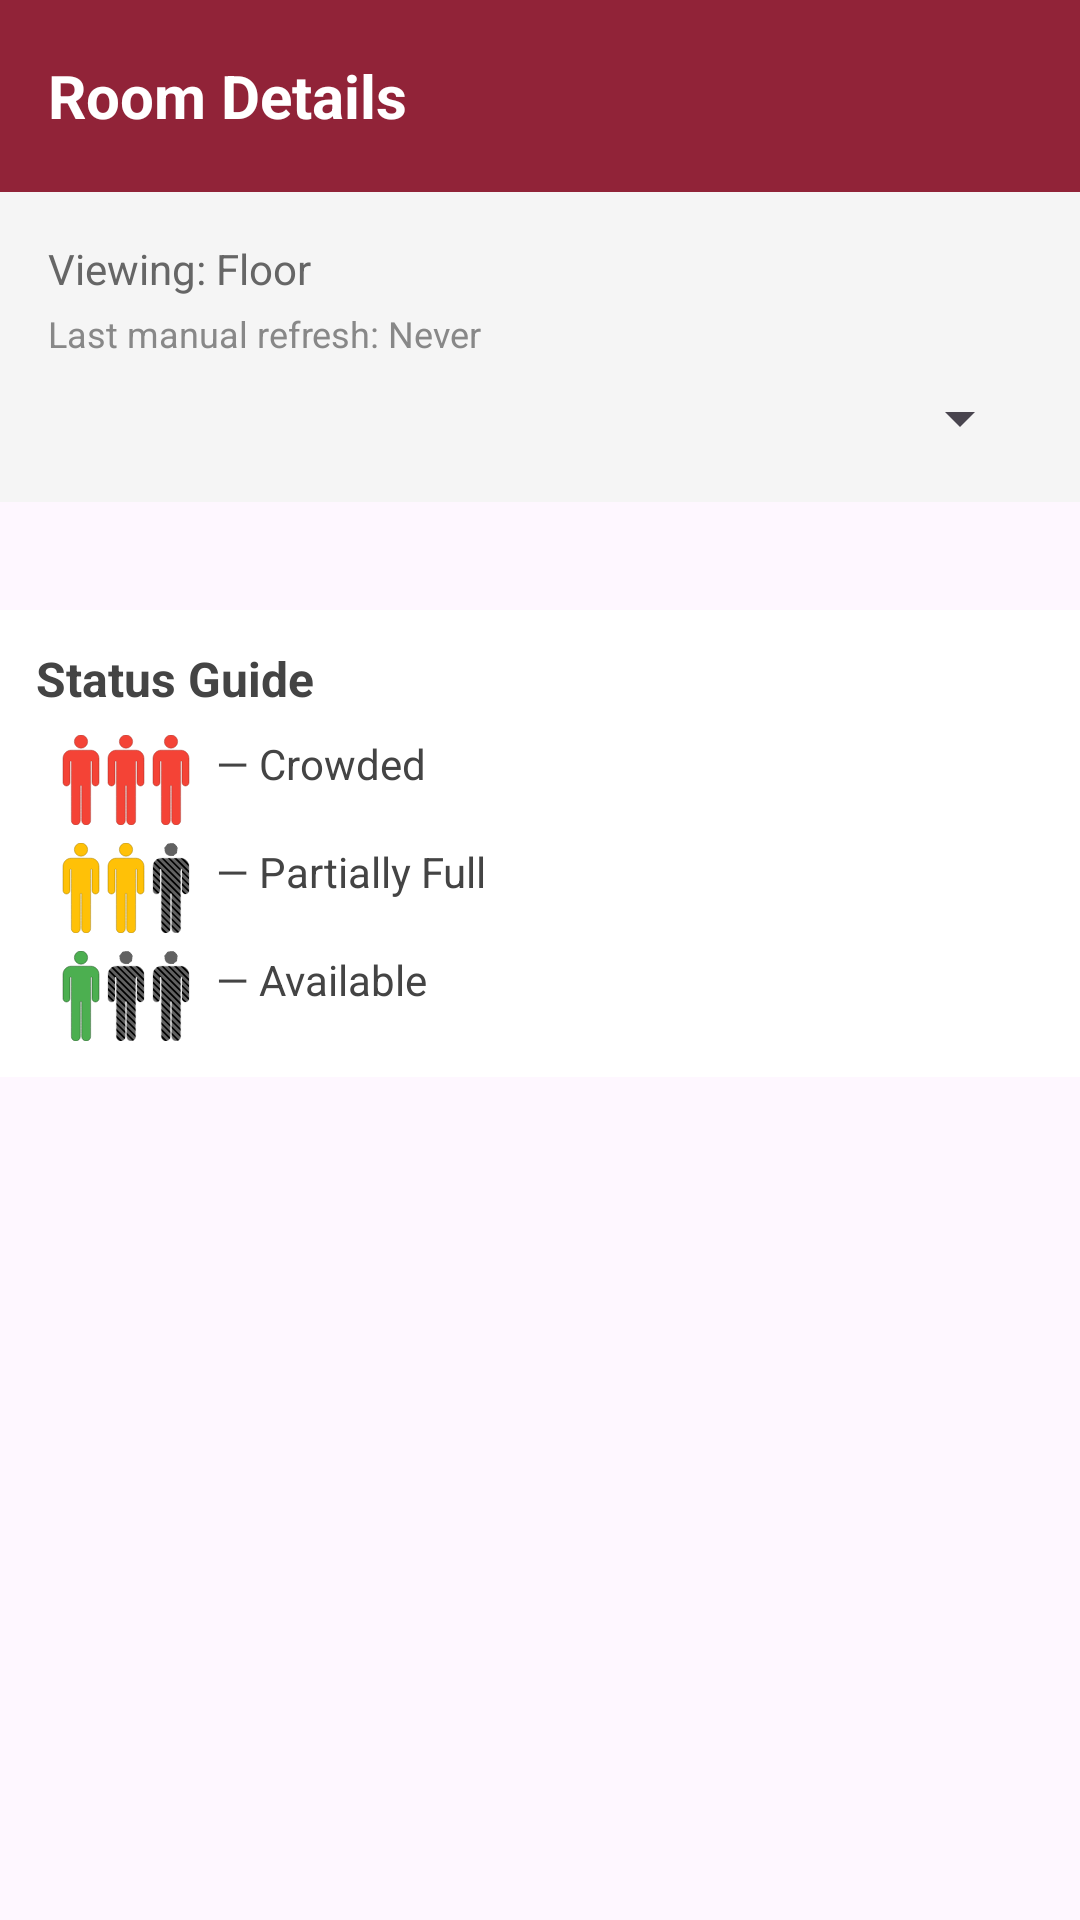

Screen size 1080*1920. Icon name, then its box in pixels as (x1, y1, x2, y2):
occupancy high: (62, 735, 190, 825)
occupancy low: (62, 951, 189, 1041)
occupancy med: (62, 843, 189, 933)
